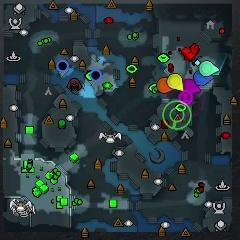p1: (194, 70, 215, 85)
p1Clone: (56, 59, 69, 72), (89, 69, 102, 82)
p2: (199, 60, 220, 77)
p3: (182, 79, 201, 94)
p4: (166, 74, 184, 92)
p5: (157, 77, 173, 93)
